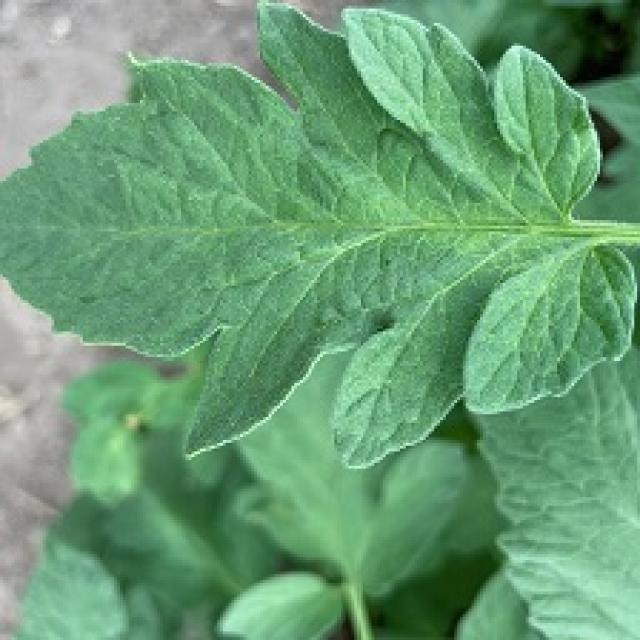Healthy: (0, 0, 640, 591)
